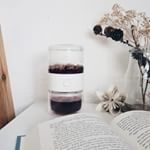cups: (44, 68, 87, 115)
